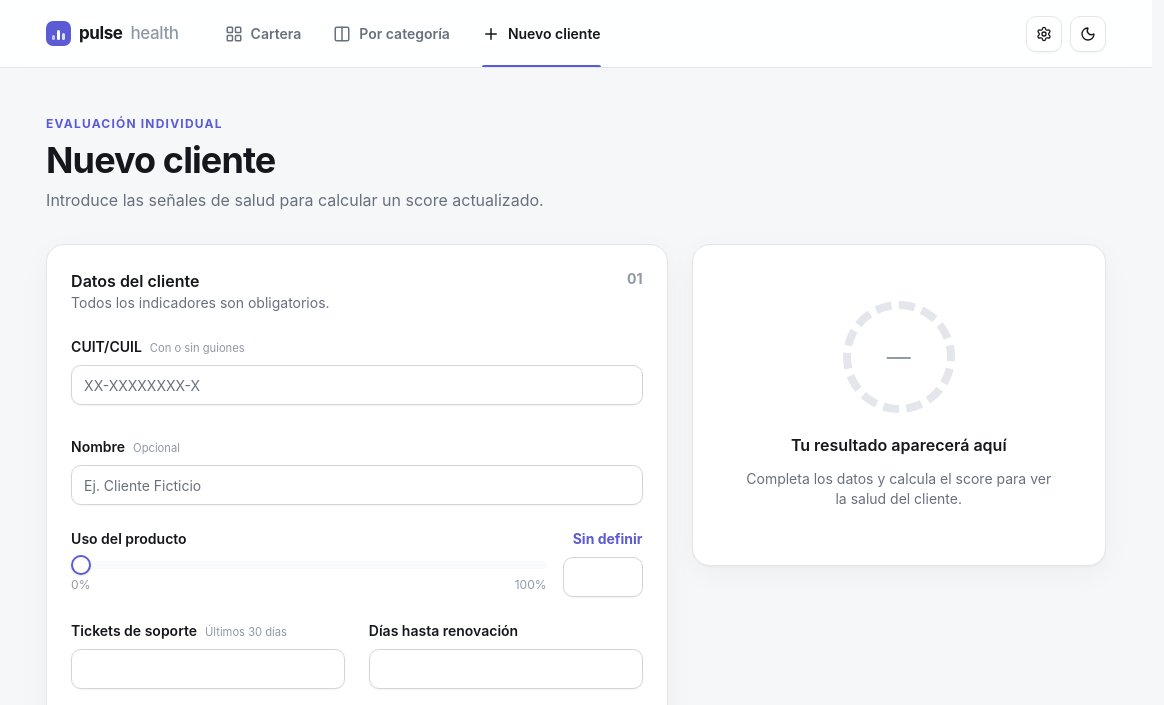
Test: Alta desde la app (US1, spec 004) › si la respuesta llega en otra pantalla, refresca la cartera sin mostrar el aviso
Check: the heading "Datos del cliente" is shown, box [71,271,200,291]
Step 1. Type "20-90000024-4" into the field labelled "CUIT/CUIL" → (357, 385), box [71,365,643,405]
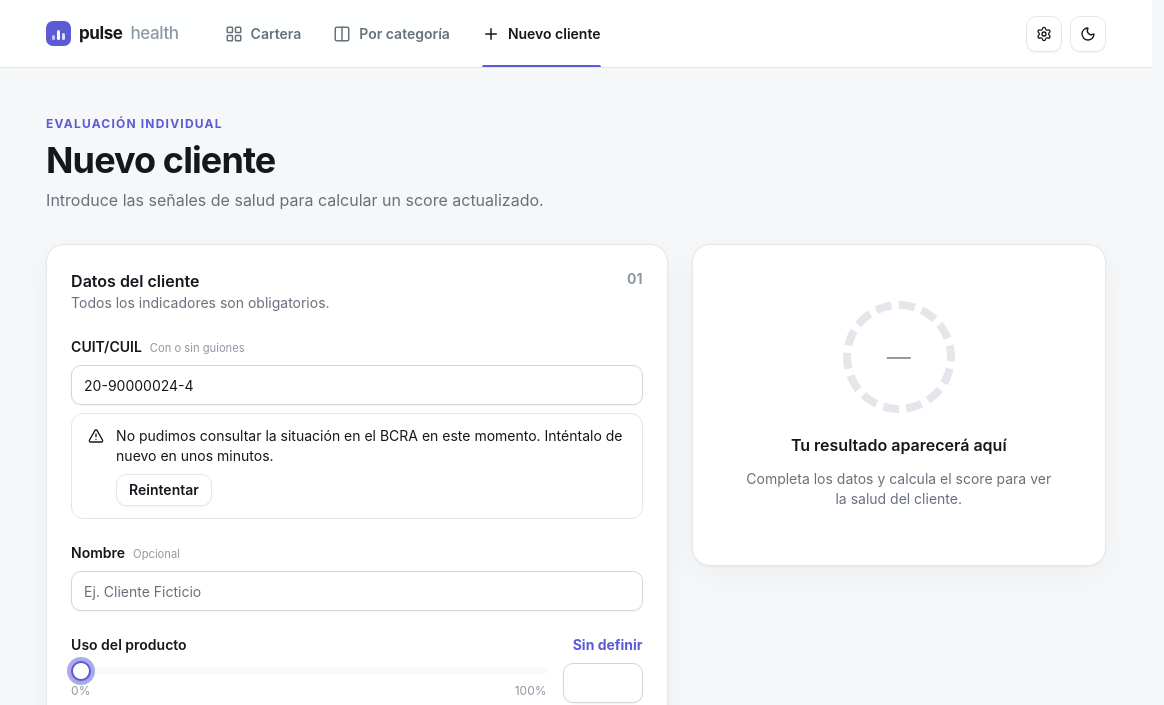
Step 2. Press Arrowright
(page scrolled)
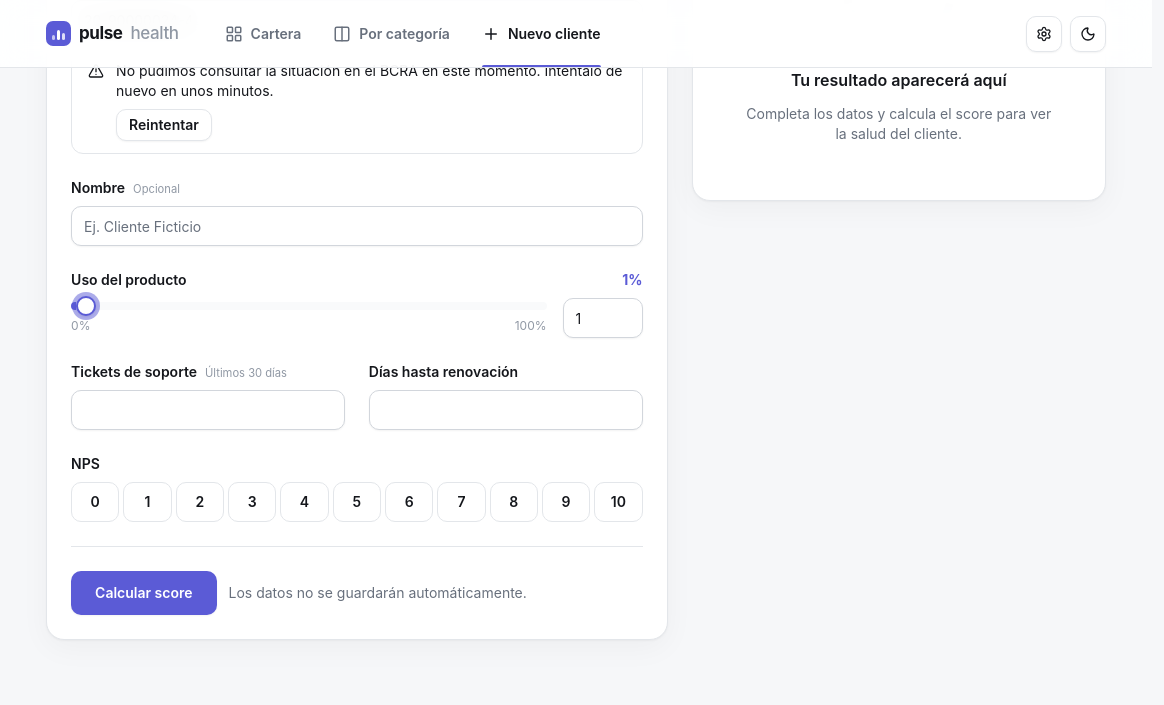
Step 3. Type "0" into the number field labelled "Tickets de soporte" → (208, 410), box [71,390,345,430]
Step 4. Type "300" into the number field labelled "Días hasta renovación" → (506, 410), box [369,390,643,430]
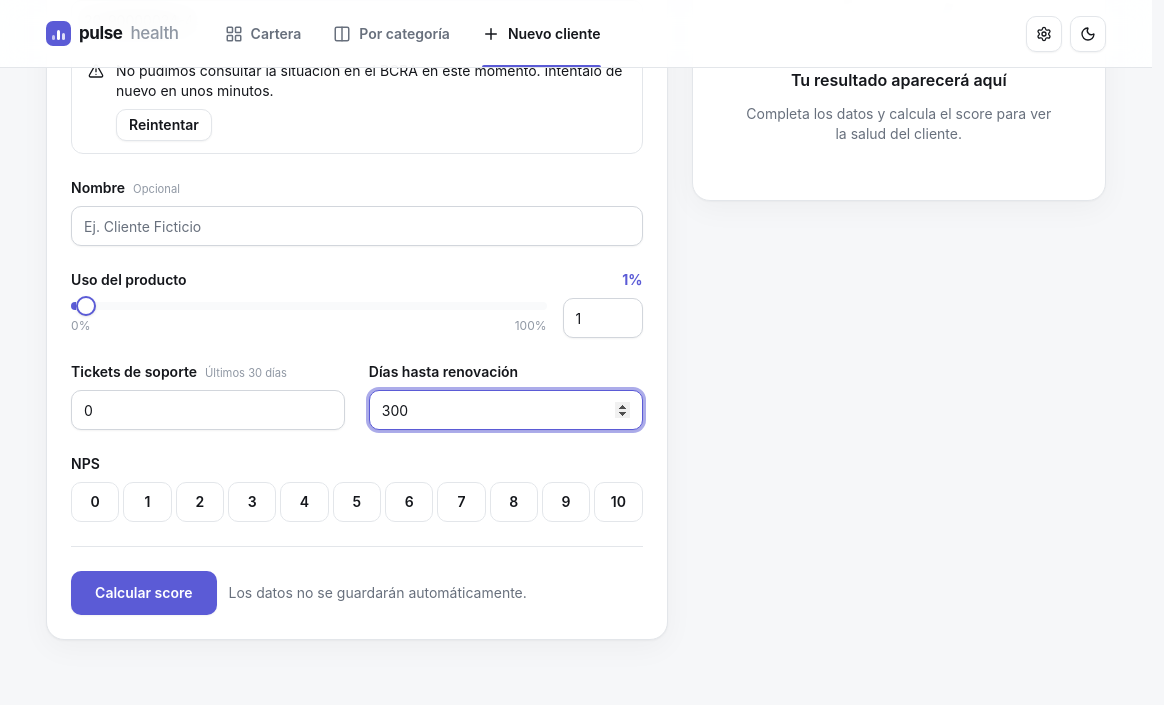
Step 5. Click the radio button named "NPS 9" → (566, 502), box [542,482,590,522]
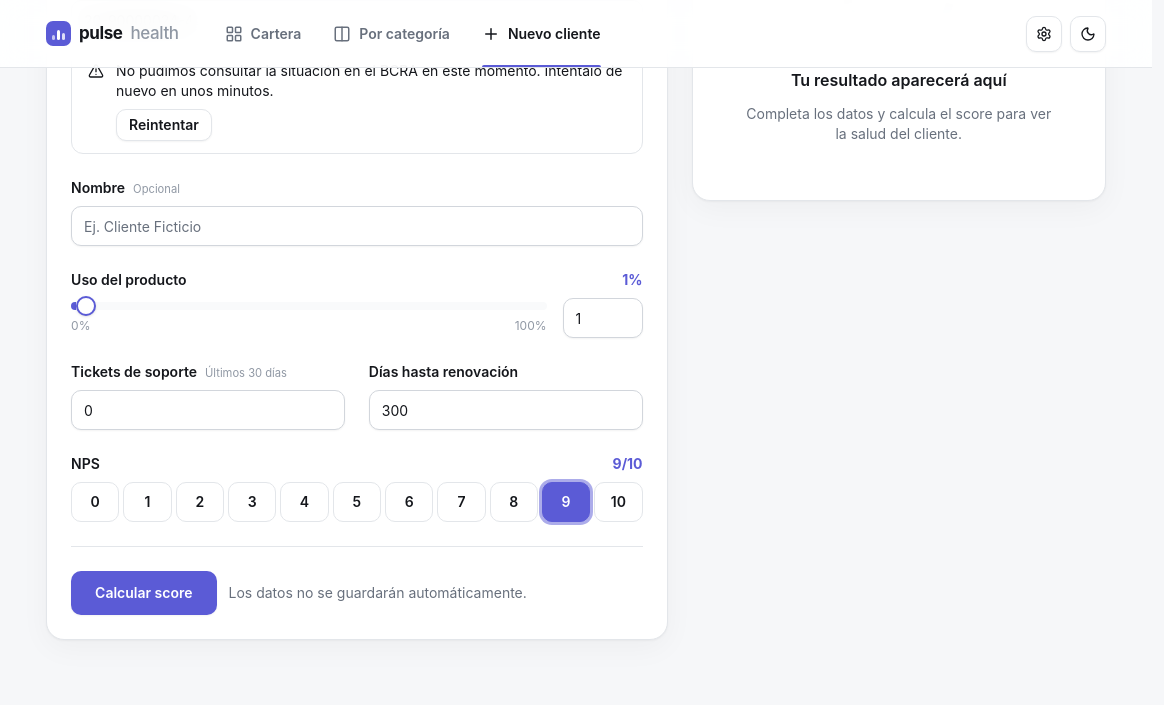
Step 6. Click the button "Calcular score" → (144, 593), box [71,571,216,615]
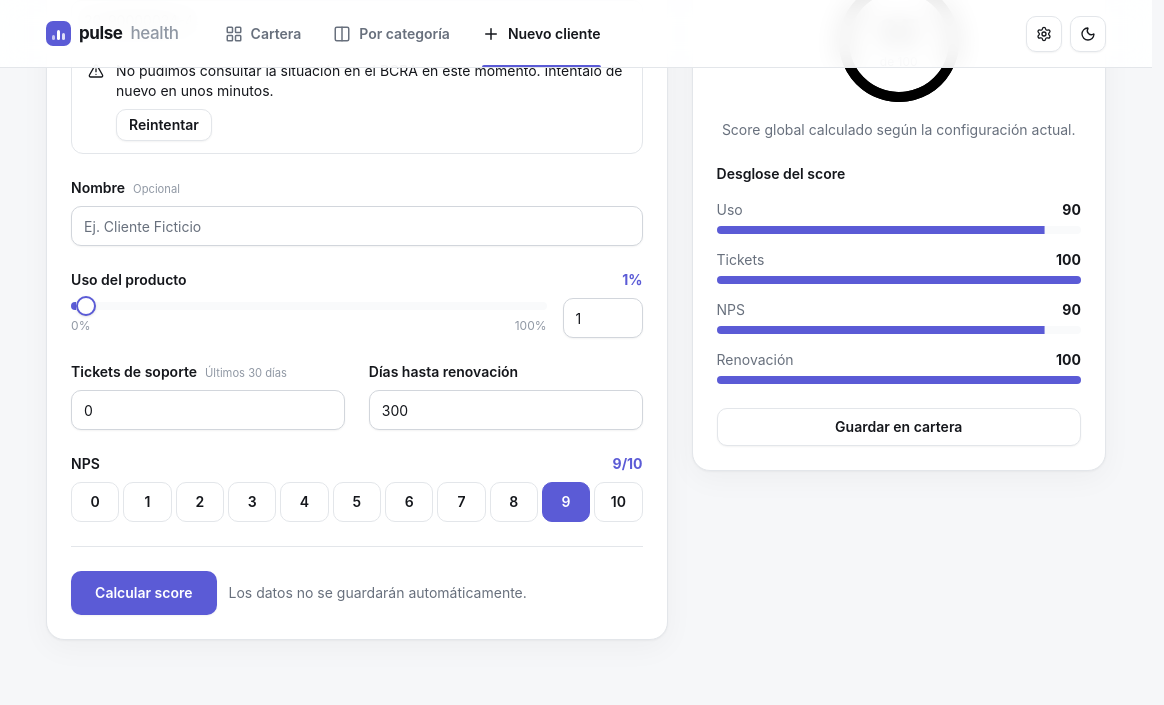
Step 7. Click the button "Guardar en cartera" → (899, 427), box [717,408,1081,446]
(page scrolled)
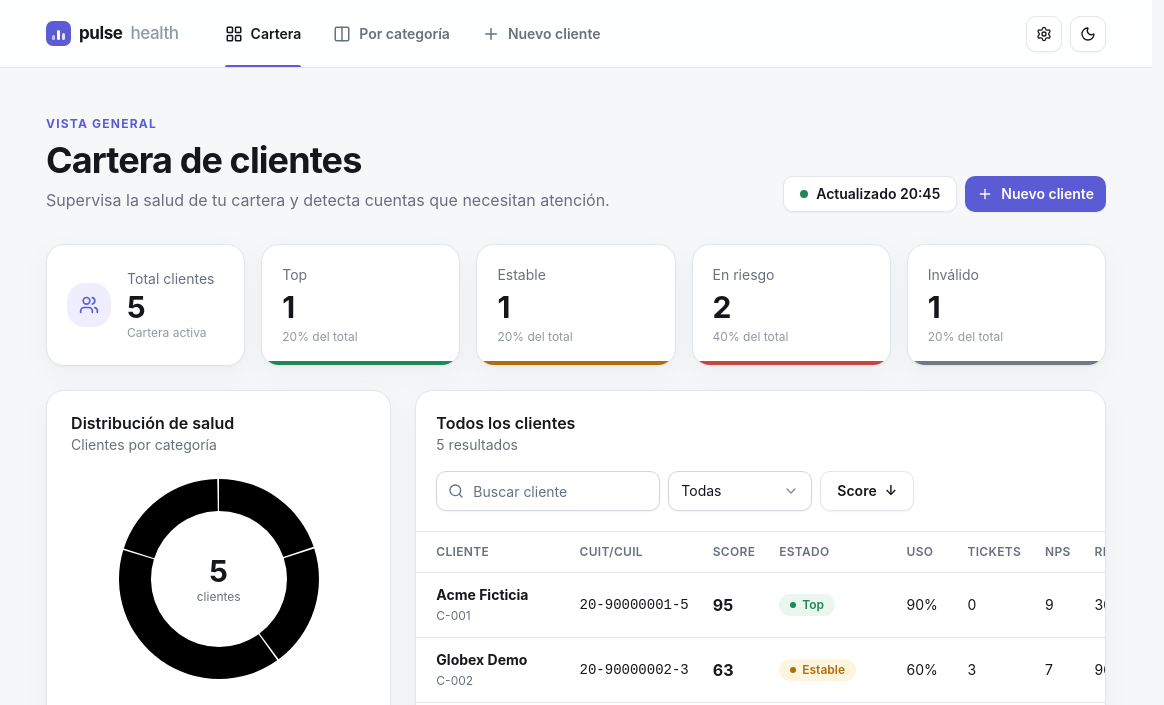
Check: the heading "Cartera de clientes" is shown, box [46,138,361,182]
